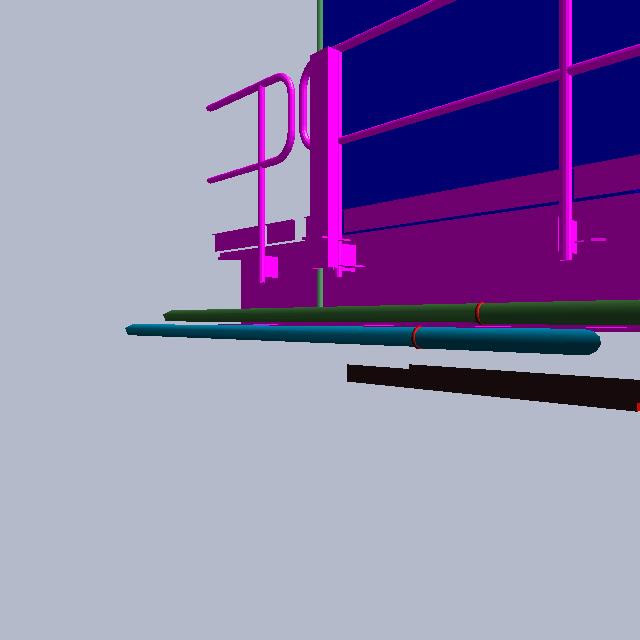Poste: (314, 1, 326, 316)
Soporte: (301, 48, 373, 282)
